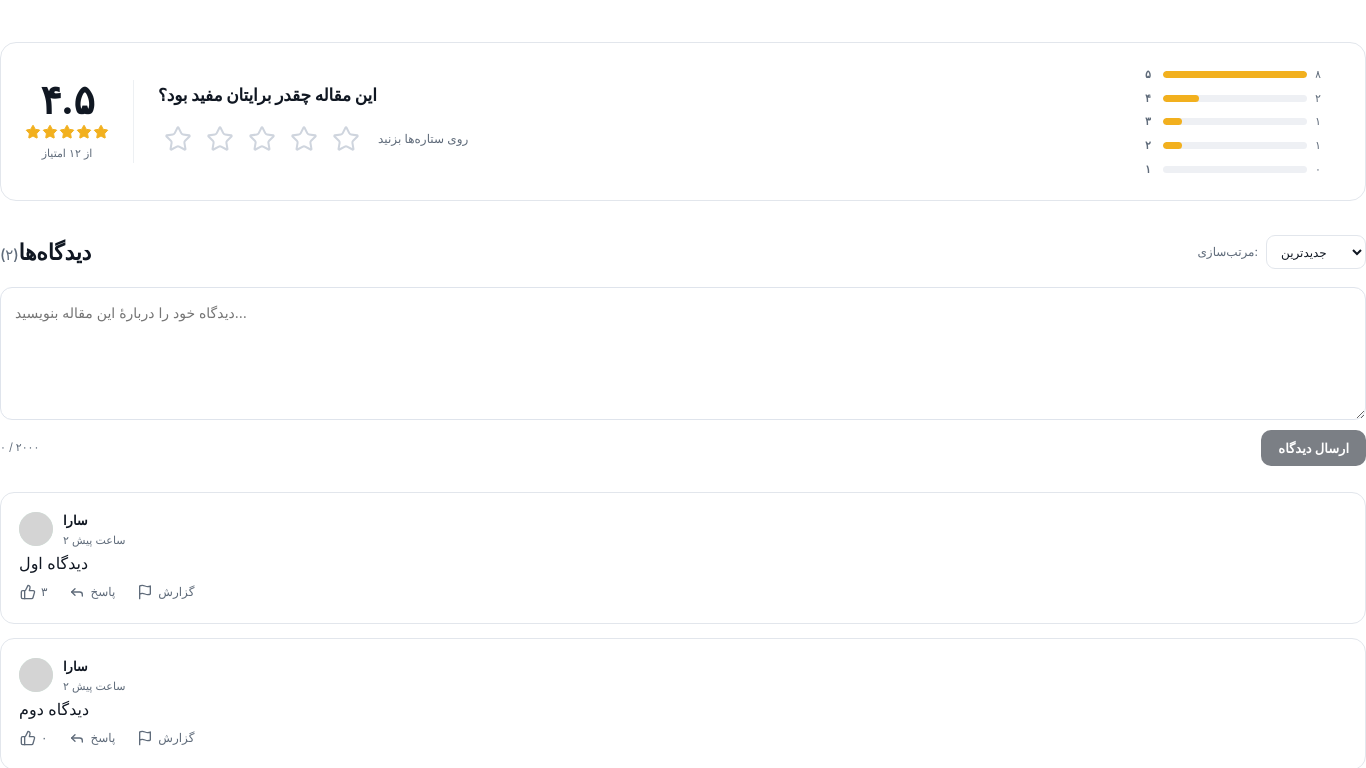
Scenario: ArticleEngagement — signed-in reader › reports a comment once with a reason
Click the button with test id "blog-comment-report" below "دیدگاه اول": [166, 592] box [128, 577, 203, 607]
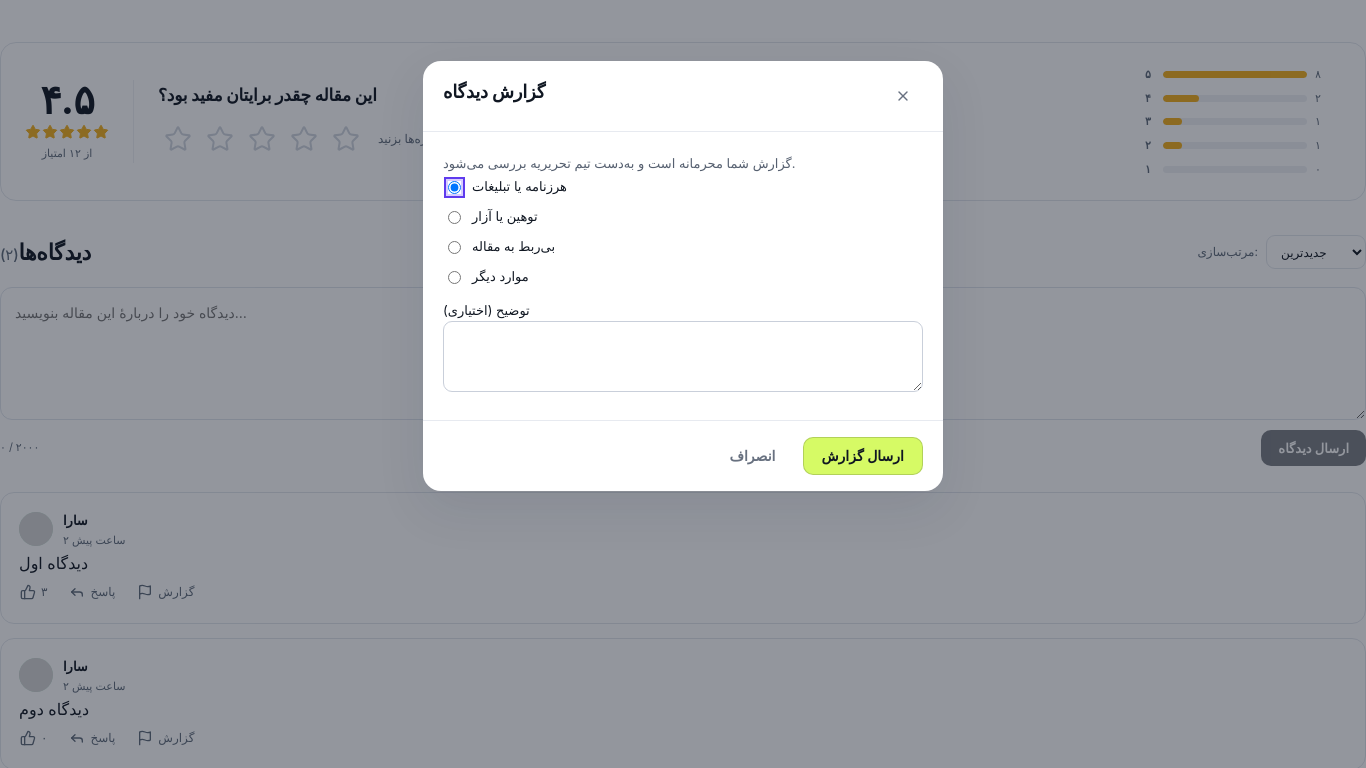
Click the radio button labelled "بی‌ربط به مقاله": [454, 247] box [448, 241, 461, 254]
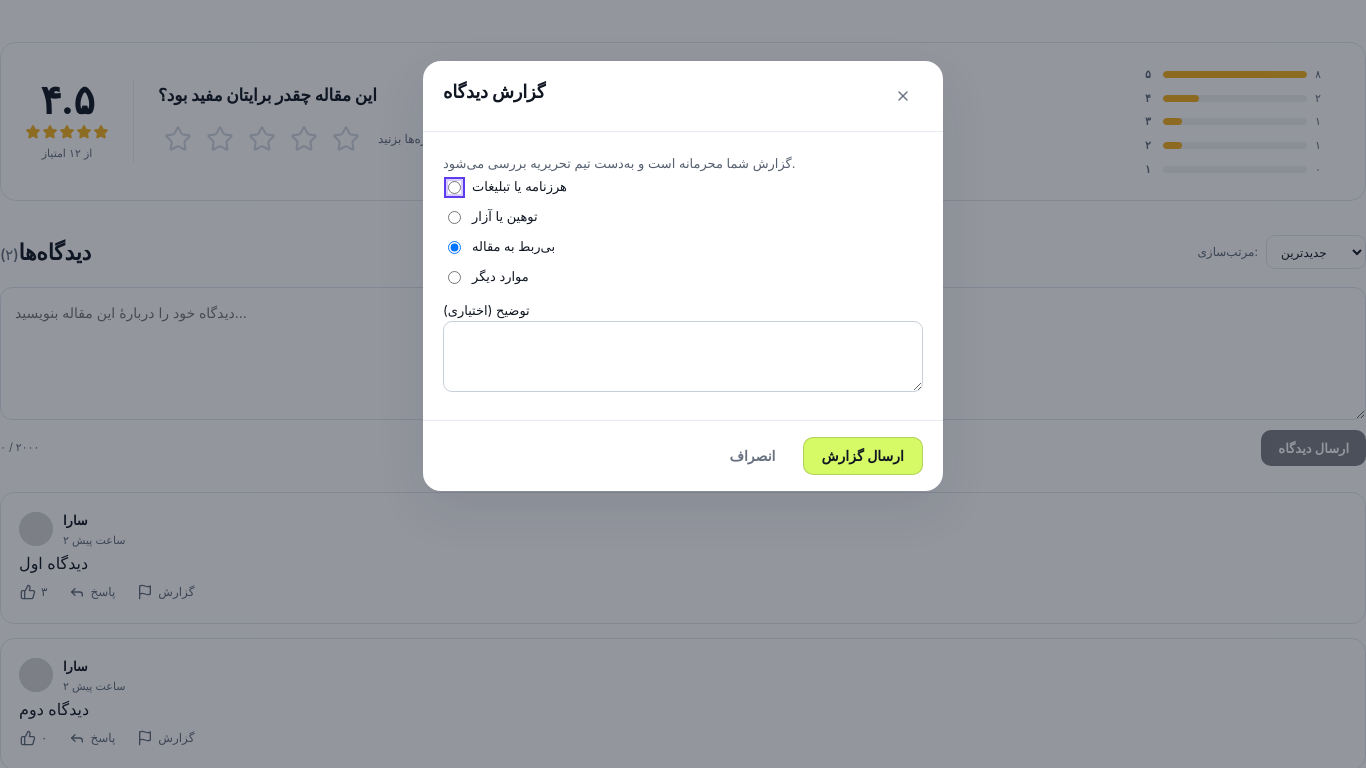
Click the button with test id "blog-report-submit": [863, 456] box [802, 437, 923, 475]
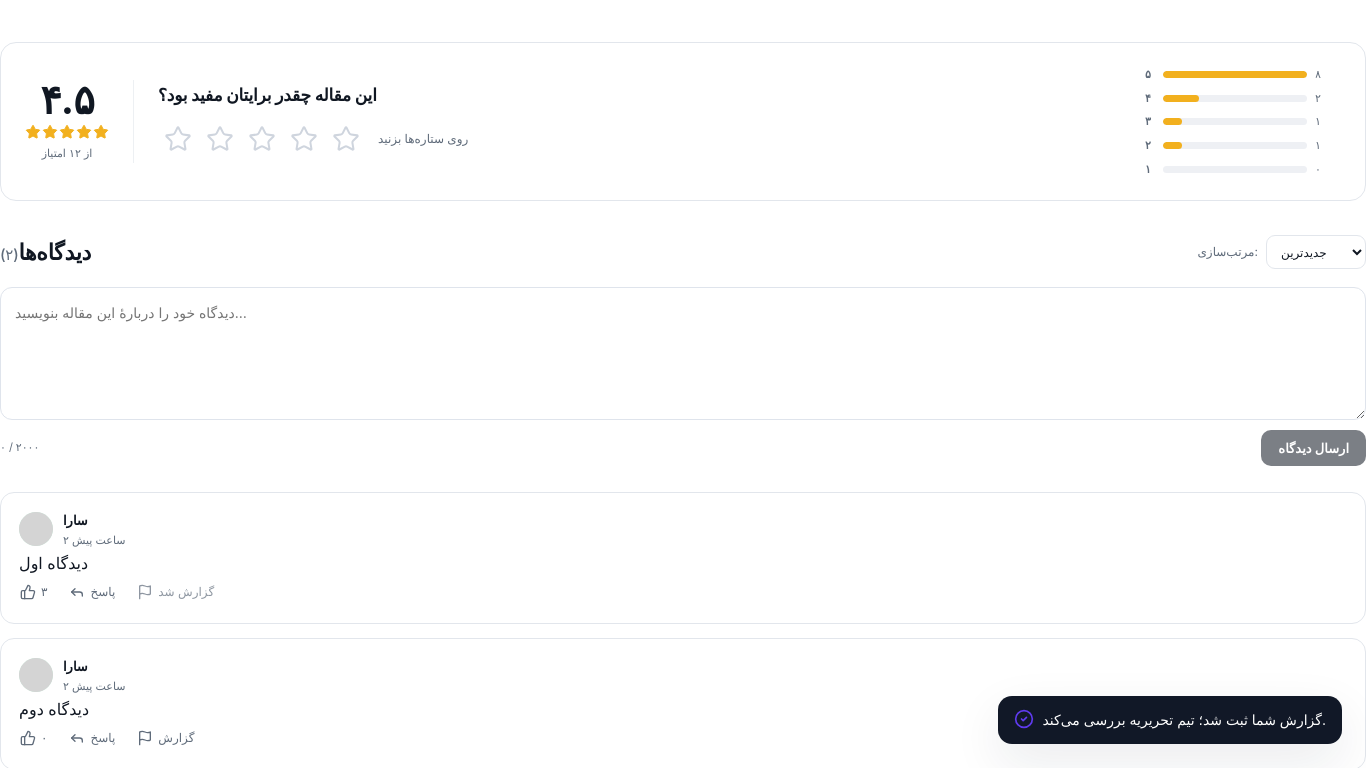
expect the button with test id "blog-comment-report" showing "گزارش شد" is disabled: met, box [128, 577, 223, 607]
